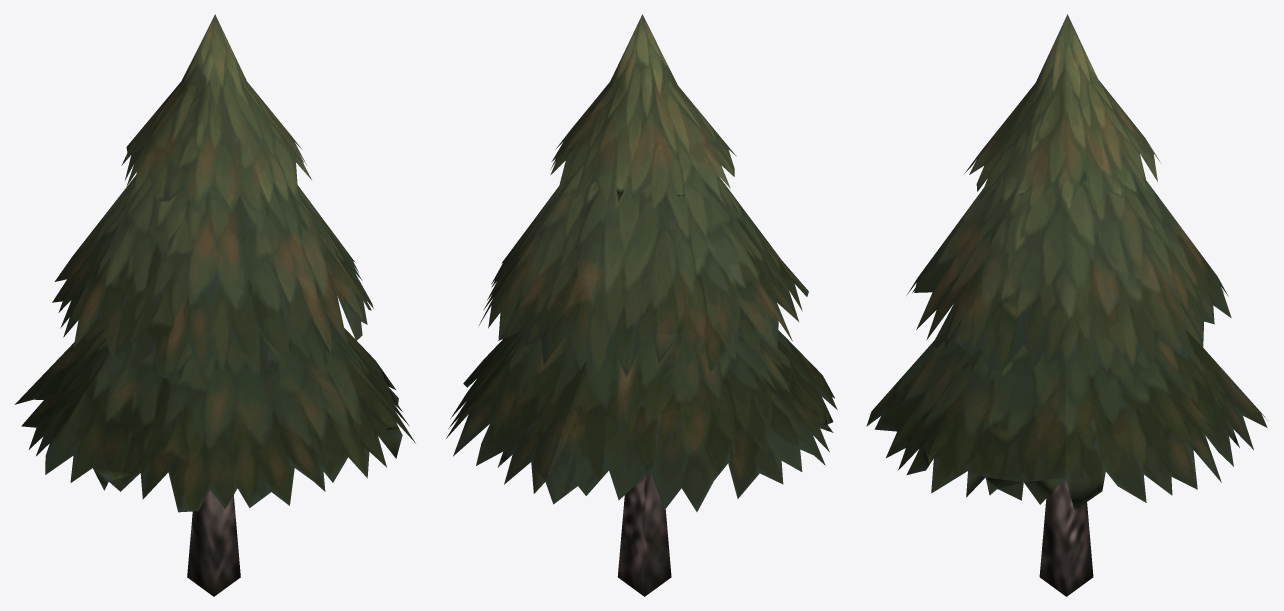
The model's file is oVgtTreePine01a.FBX.
3 views of the same model, side by side, from view 1: azimuth 30°, elevation 25°; view 2: azimuth 150°, elevation 25°; view 3: azimuth 270°, elevation 25° (orthographic).
Visible parts, largest first — view 1: oVgtTreePine01a; view 2: oVgtTreePine01a; view 3: oVgtTreePine01a.
Boxes of the visible parts, x1=… form: oVgtTreePine01a: x1=14, y1=14, x2=415, y2=596; oVgtTreePine01a: x1=446, y1=14, x2=837, y2=596; oVgtTreePine01a: x1=866, y1=14, x2=1267, y2=596.
Size of the model in its own units: 17.52 by 27.06 by 17.34.
1 material, 1 textured.
